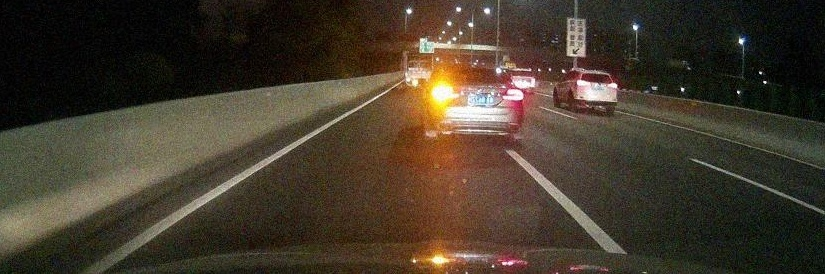L_light: (432, 87, 459, 101), (577, 80, 587, 86)
R_light: (502, 89, 524, 101), (607, 82, 616, 88)
T_light: (469, 68, 481, 71), (594, 73, 600, 75)
night-left: (430, 63, 524, 141)
night-no: (576, 70, 617, 114)
